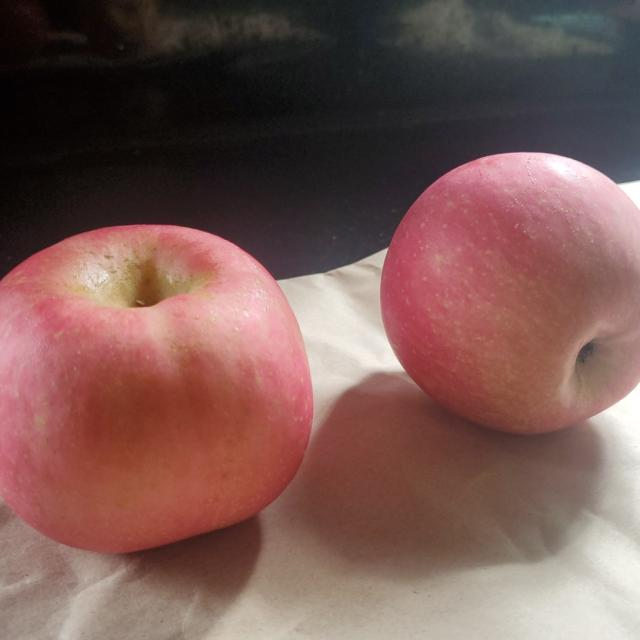apple: (0, 229, 312, 562), (385, 152, 640, 434)
